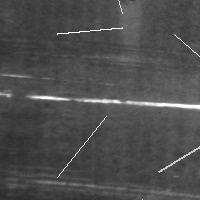scratches: (52, 111, 111, 182), (27, 92, 199, 112), (169, 29, 200, 96), (154, 132, 200, 176), (52, 23, 127, 39), (91, 0, 127, 18), (109, 195, 147, 200)
